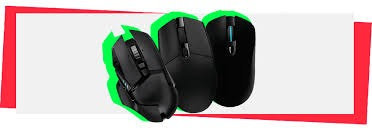mouse: (153, 19, 219, 124), (110, 23, 170, 127), (210, 16, 262, 110)
